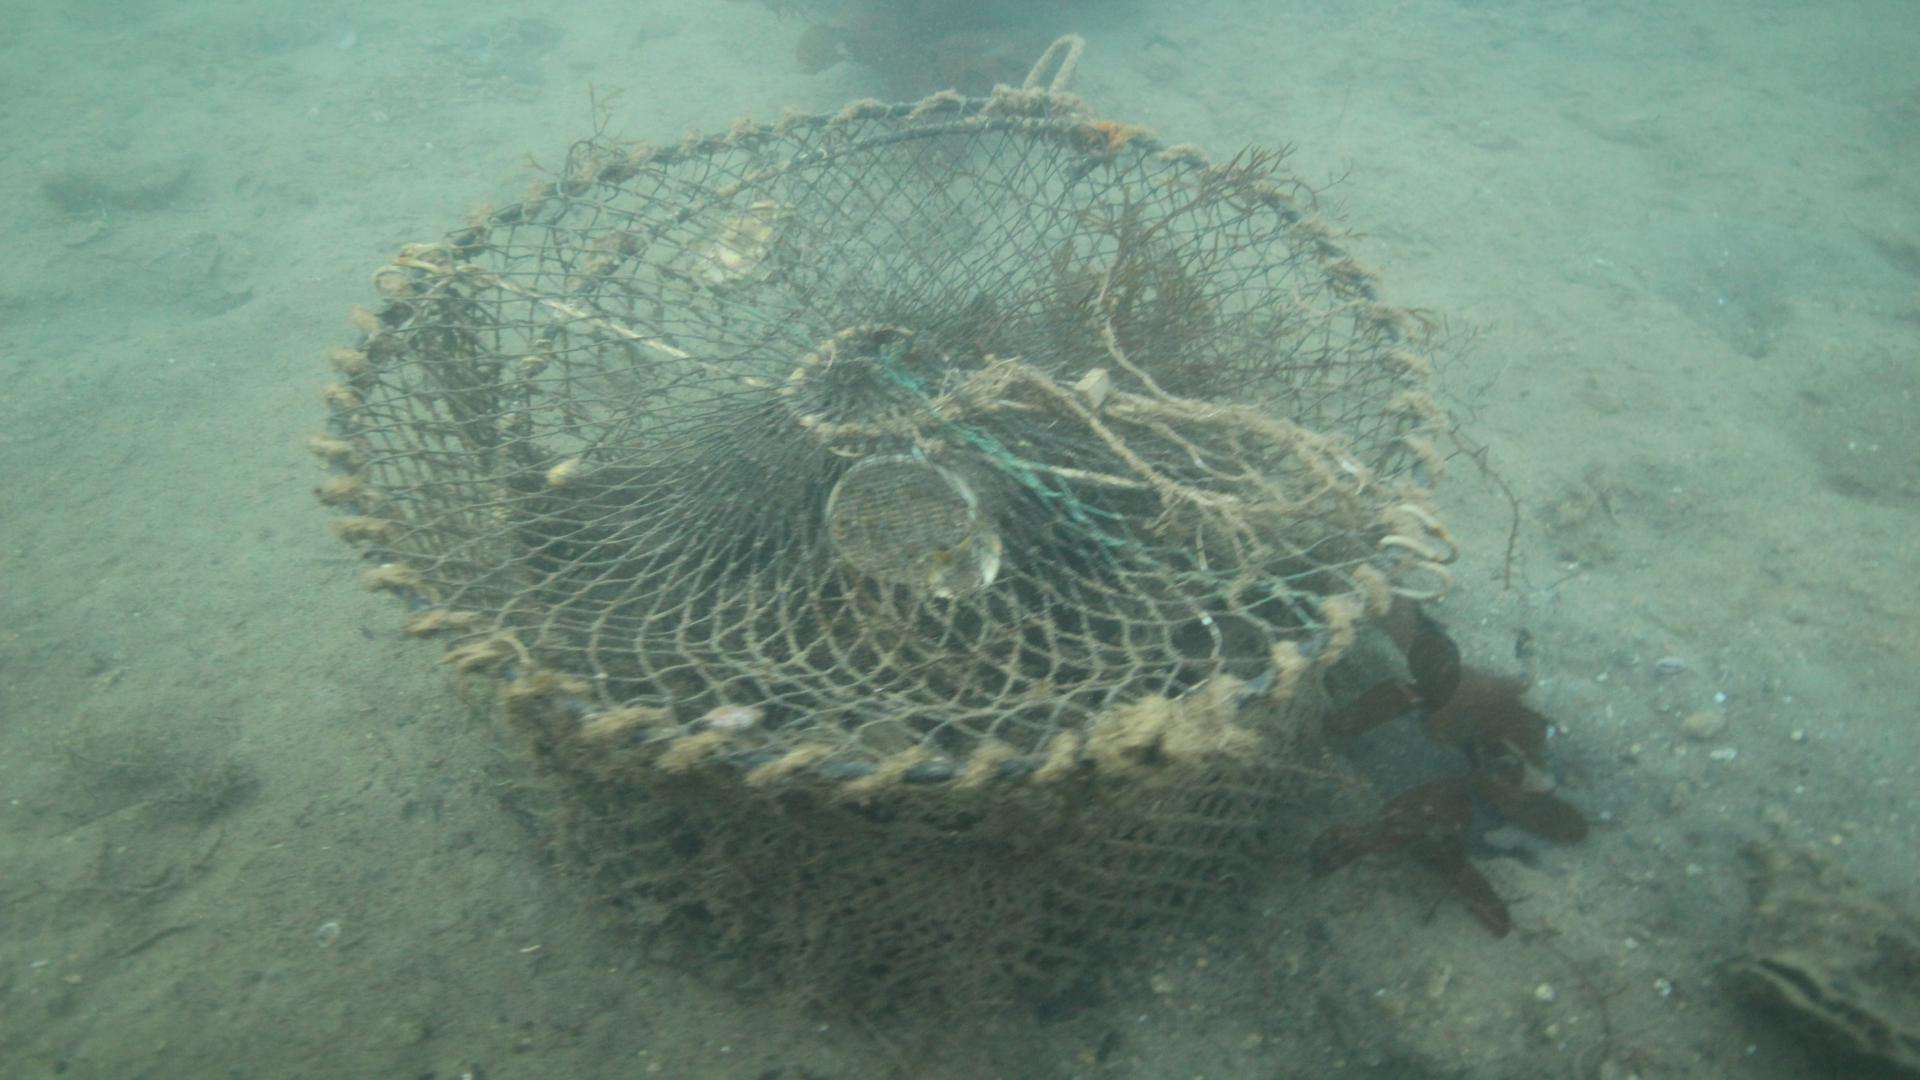circular fish trap: (306, 79, 1443, 1023)
rope: (1022, 32, 1084, 94)
